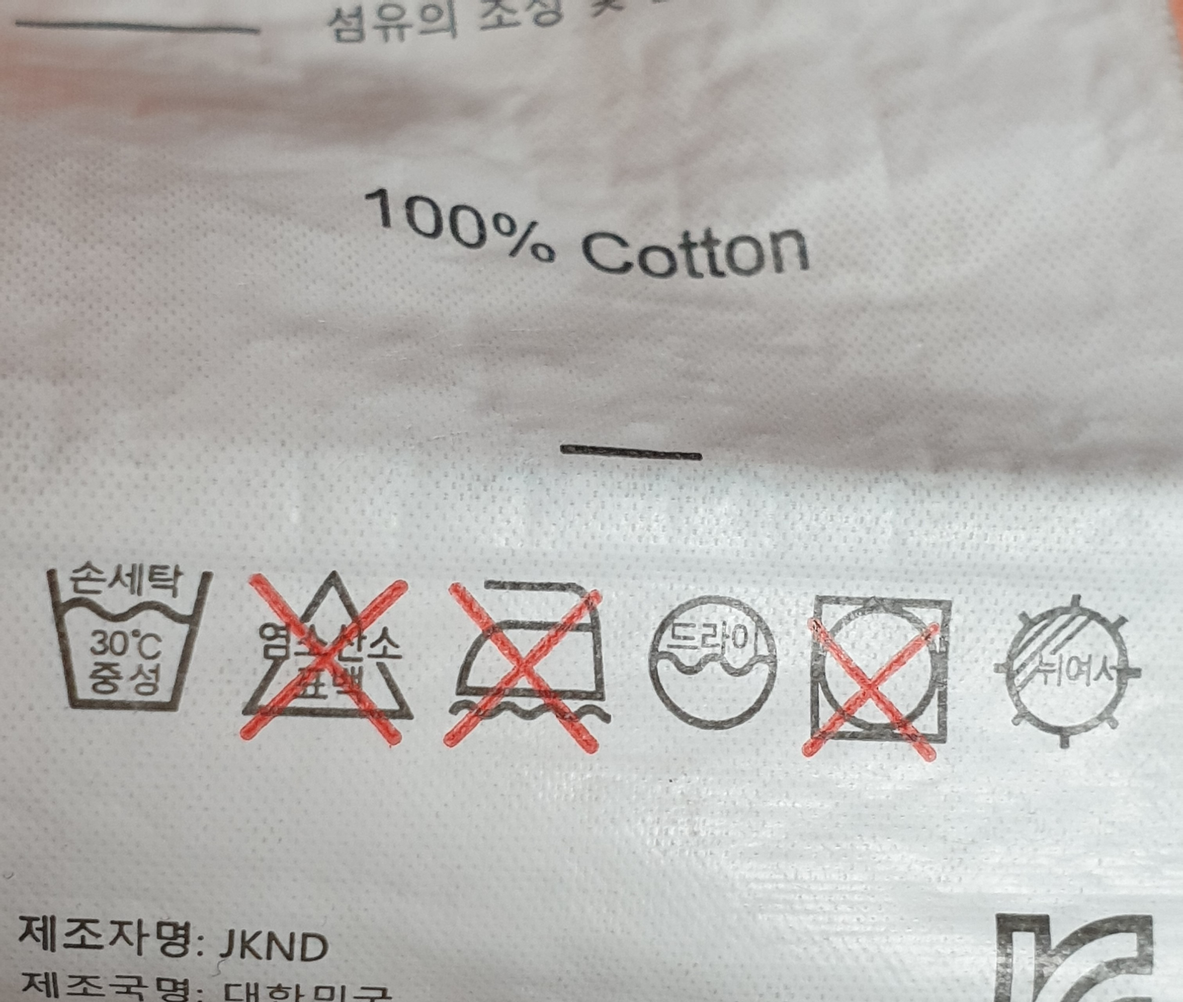KR_dry_clean: (645, 585, 782, 737)
KR_flat_dry_in_shade: (996, 589, 1146, 748)
KR_hand_wash_30_neutral: (39, 536, 212, 731)
KR_no_bleach: (241, 560, 404, 737)
KR_no_iron: (437, 566, 613, 752)
KR_no_tumble_dry: (795, 579, 955, 767)
